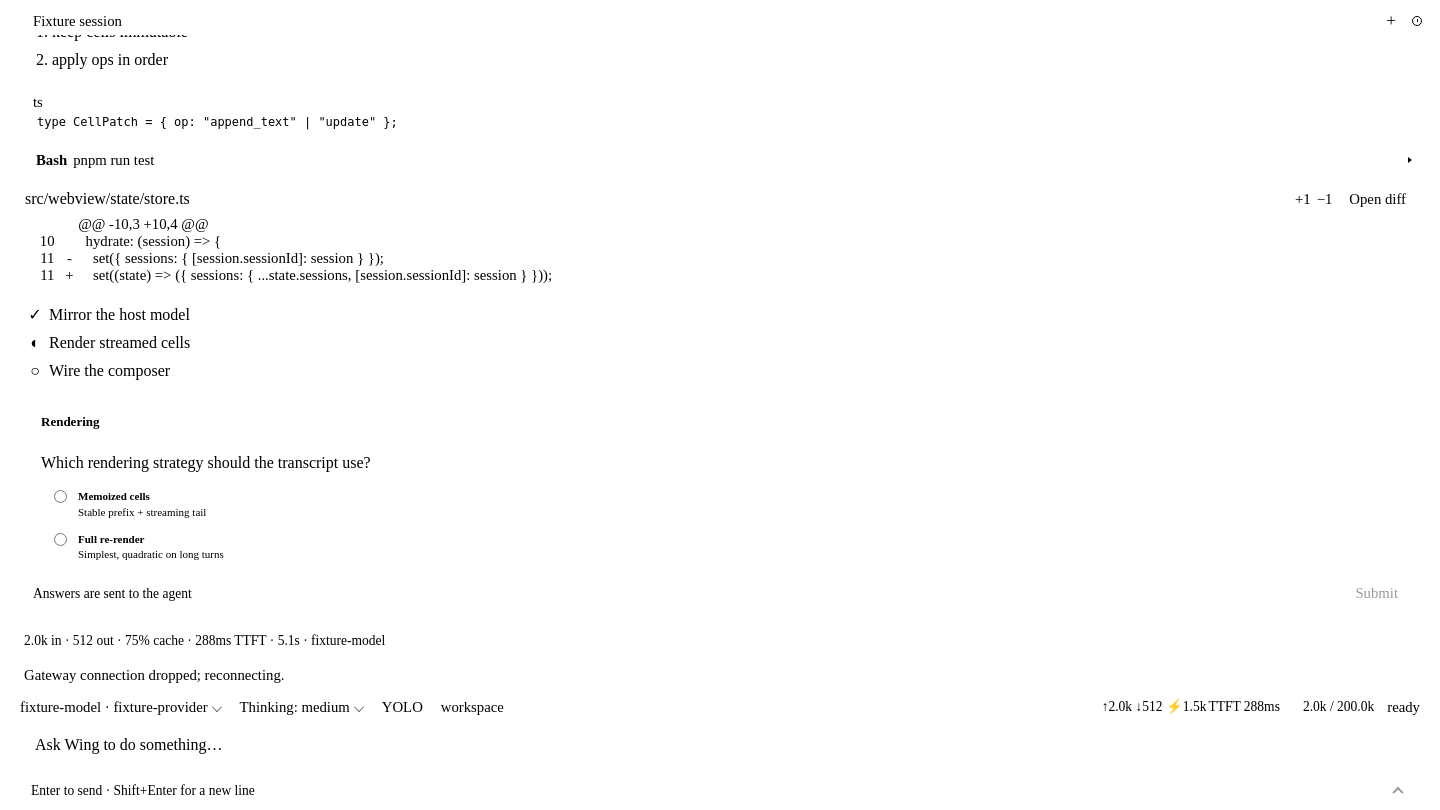
Test: webview app › round-trips a ping and shows the measured latency
The width and height of the screenshot is (1440, 810).
(page scrolled)
What coordinates should you click on to do the following:
click the button with test id "ping-button"
I would click on:
 (1404, 707)
Its box is [1379, 699, 1428, 715].
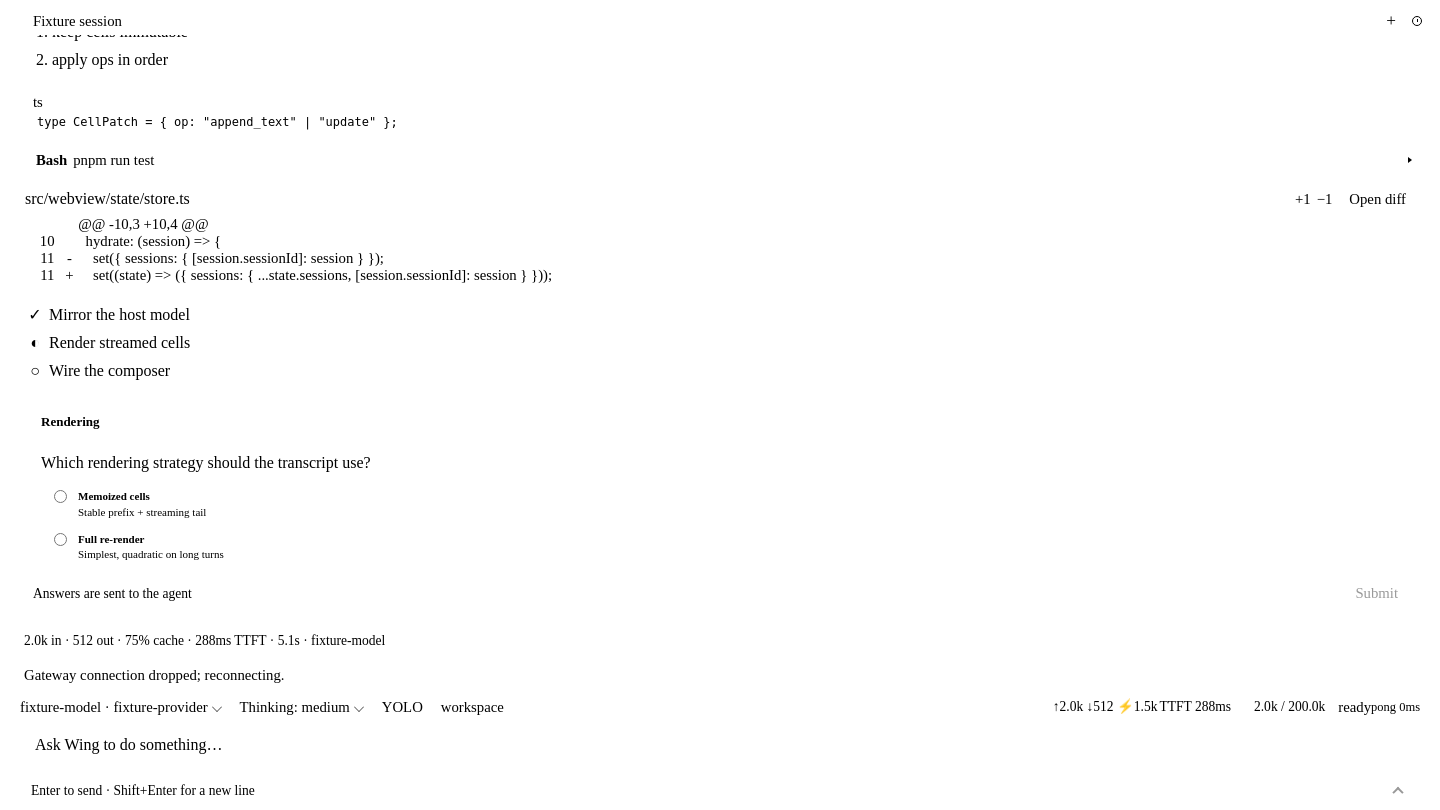
Expected: the text with test id "ping-rtt" reads "pong 0ms", [1371, 700, 1420, 714]
